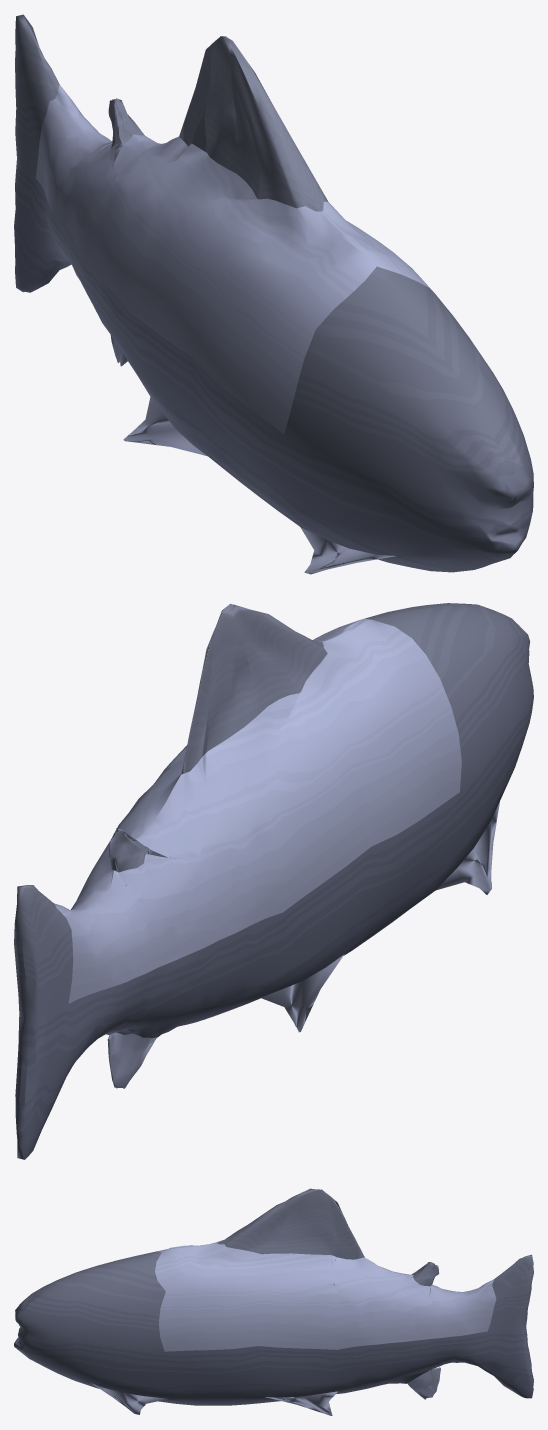
3 views of the same model, one above another, from view 1: azimuth 30°, elevation 25°; view 2: azimuth 150°, elevation 25°; view 3: azimuth 270°, elevation 25° (orthographic). The views are drawn at different scales.
Size of the model in its own units: 0.2106 by 0.4517 by 0.9887.
Materials: 1 (1 with a texture image).
